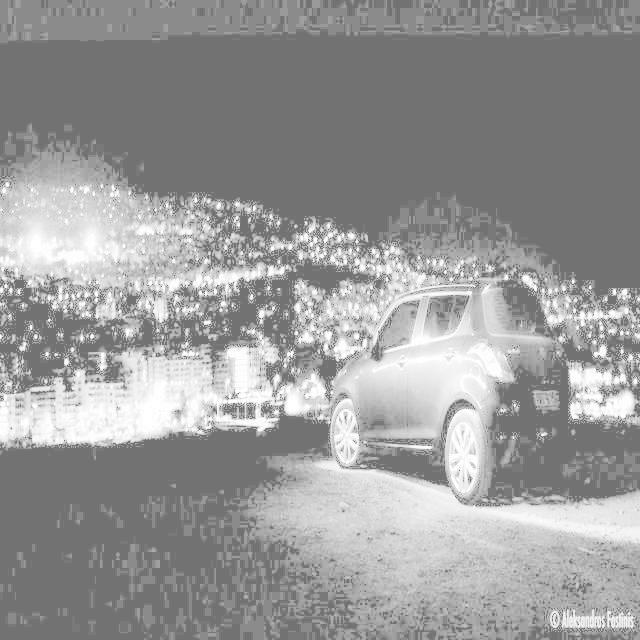Car: (315, 257, 579, 520)
